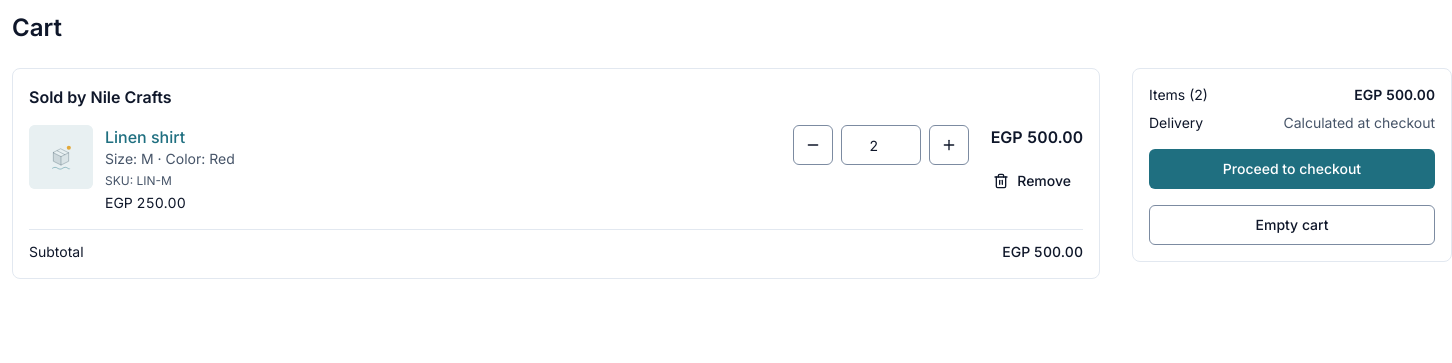
Scenario: cart page (spec 01 SF-06) › a change failing with CART_ITEM_NOT_FOUND refetches the cart, which then shows the problem
Click the button named "Increase quantity, Linen shirt" at (949, 145), box x1=929 y1=125 x2=969 y2=165
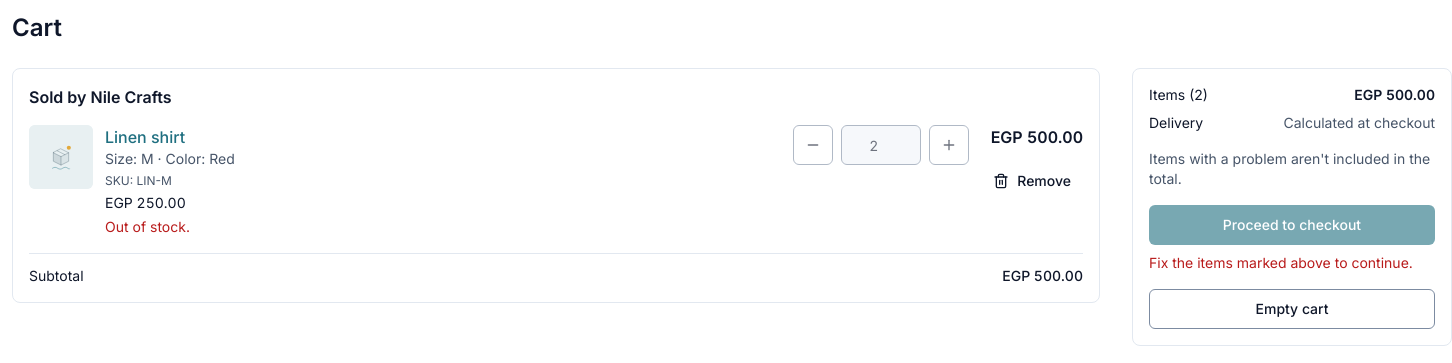
Now the text "Out of stock." is shown, box x1=105 y1=217 x2=190 y2=237
